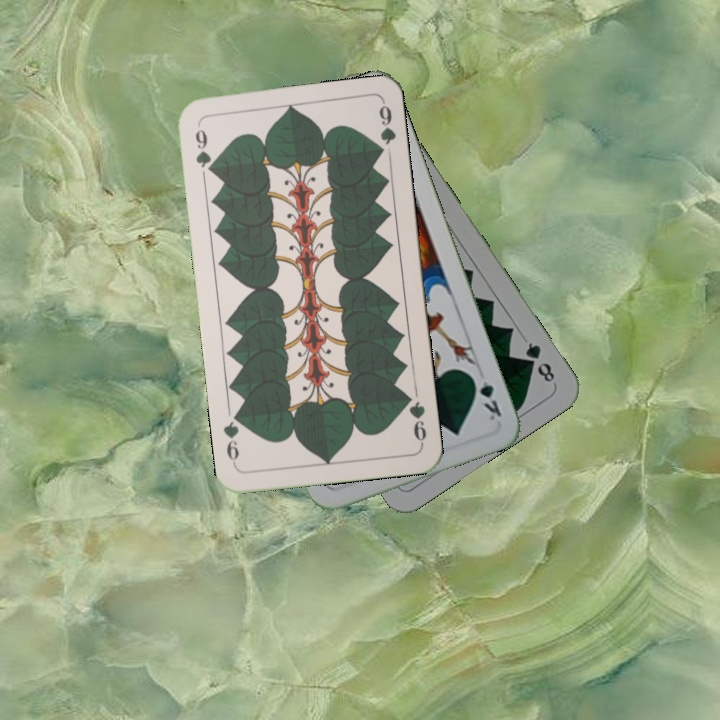G8: (521, 338, 558, 386)
G9: (401, 389, 429, 447), (191, 125, 216, 177)
GK: (467, 370, 505, 423)
